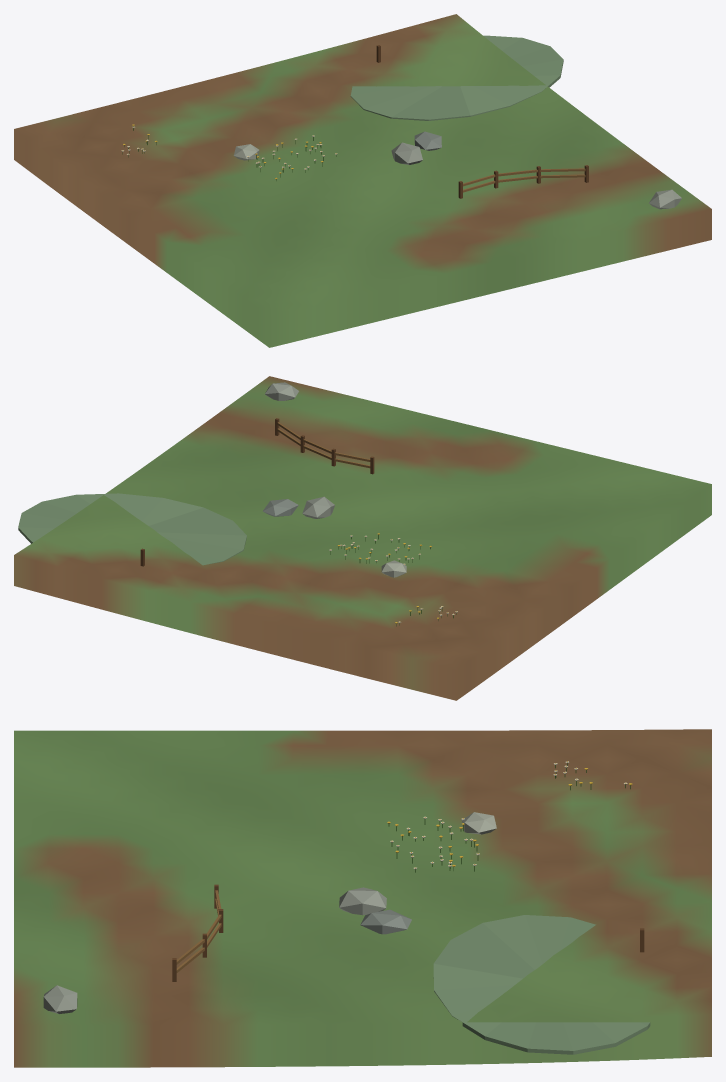
The picture shows the model from 3 angles, top to bottom: view 1: azimuth 30°, elevation 25°; view 2: azimuth 150°, elevation 25°; view 3: azimuth 270°, elevation 25°; orthographic projection. The views are drawn at different scales.
Parts seen in each view (by area): view 1: terrain, scenery; view 2: terrain, scenery; view 3: terrain, scenery.
Part boxes in pixels (<box>): terrain: <box>14,14,711,347</box>; scenery: <box>121,35,681,209</box>; terrain: <box>14,376,711,700</box>; scenery: <box>18,382,457,626</box>; terrain: <box>14,729,711,1067</box>; scenery: <box>43,761,650,1054</box>.
Bounding box in the file's own units: 32.92 × 3.31 × 30.
